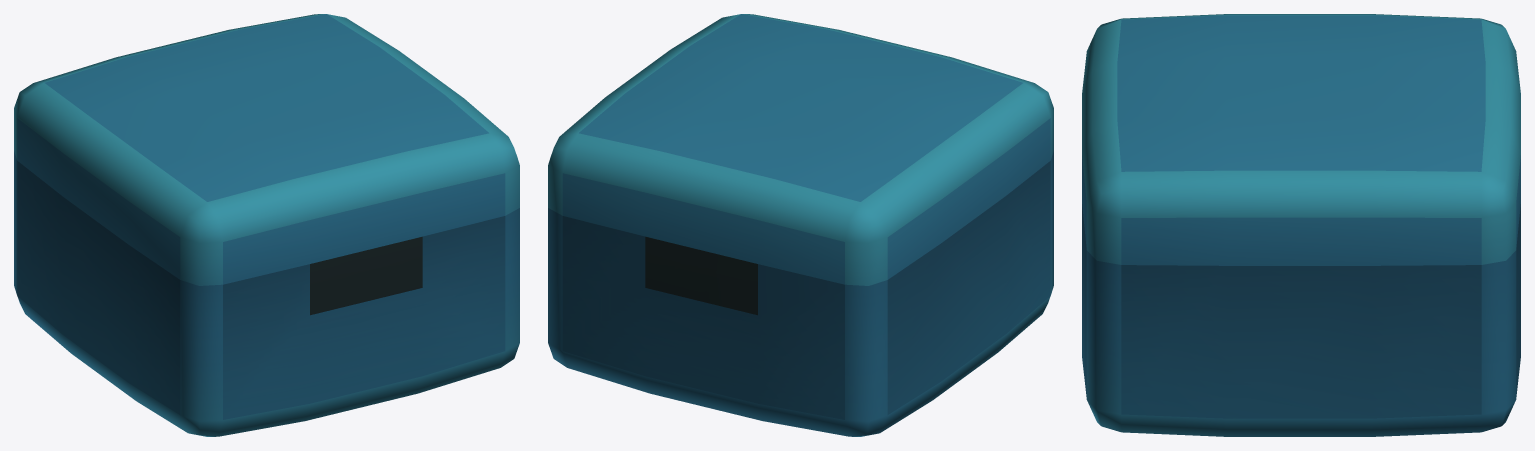
The model's file is box1_LOD_setup.fbx.
3 views of the same model, side by side, from view 1: azimuth 30°, elevation 25°; view 2: azimuth 150°, elevation 25°; view 3: azimuth 270°, elevation 25° (orthographic). The views are drawn at different scales.
Visible parts, largest first — view 1: box1_LOD0; view 2: box1_LOD0; view 3: box1_LOD0.
Part boxes in pixels (x1,y1,x2,y2): box1_LOD0: (14, 14, 519, 436); box1_LOD0: (548, 14, 1053, 436); box1_LOD0: (1082, 14, 1520, 436).
Size of what is drawn, in the model's own units: 38.32 by 26.38 by 38.33.
